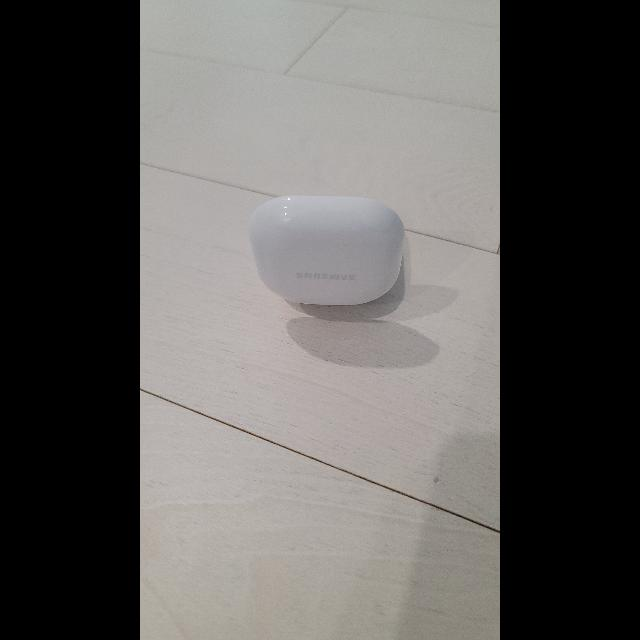GALAXY-BUDS-2: (250, 196, 405, 305)
